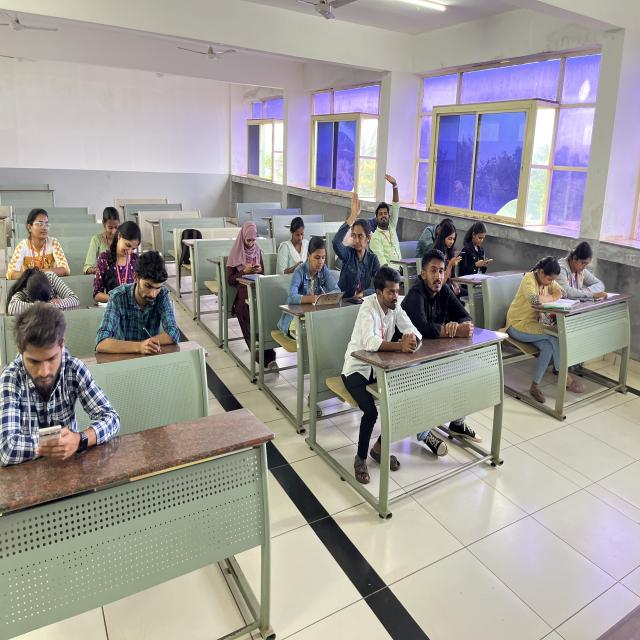Hand Rising: (332, 178, 381, 281), (367, 162, 409, 265)
Reading: (558, 221, 620, 301), (510, 243, 578, 310)
Sleeping: (2, 255, 85, 324)
Using Phone: (0, 304, 127, 463), (275, 210, 320, 279), (424, 217, 468, 283), (459, 210, 496, 275)
Writing: (99, 256, 191, 366), (273, 236, 348, 327), (216, 213, 284, 299)
